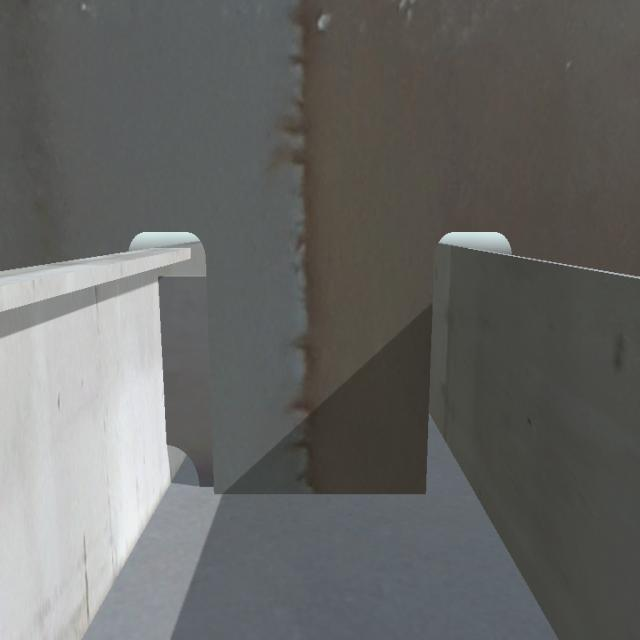fillet_hole: (166, 447, 200, 492)
fillet_yong_jeop_jang: (191, 486, 435, 500)
longi_yong_jeop_jang: (156, 272, 167, 432)
plate_behind: (164, 279, 207, 491), (419, 489, 419, 490)
